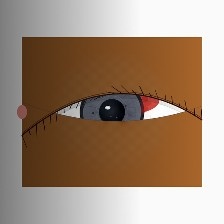hemorrhage_spot: (83, 65, 171, 135)
